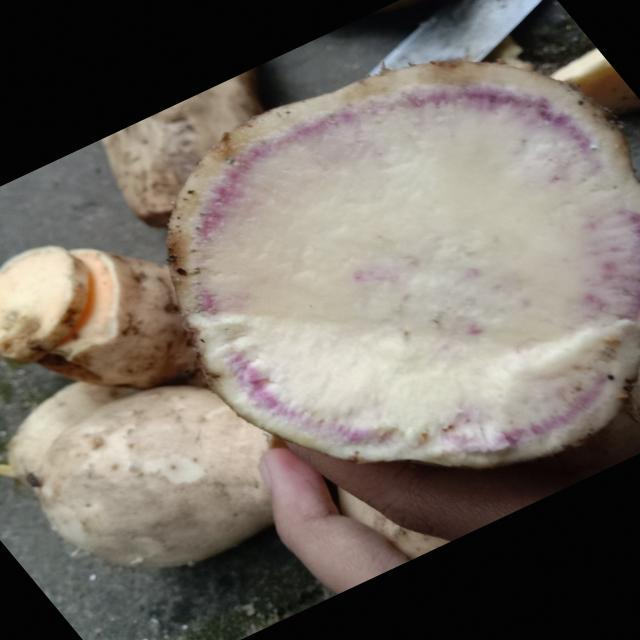Healthy Sweet Potato: (168, 61, 638, 468)
